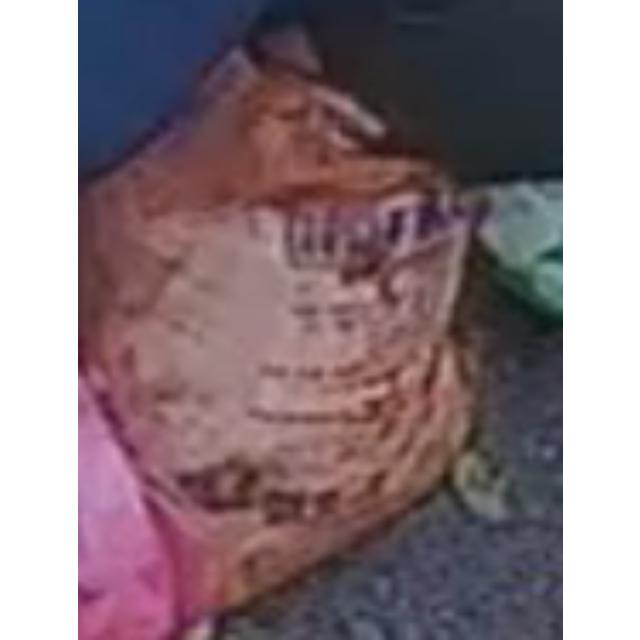other_trashbag: (80, 36, 468, 618)
